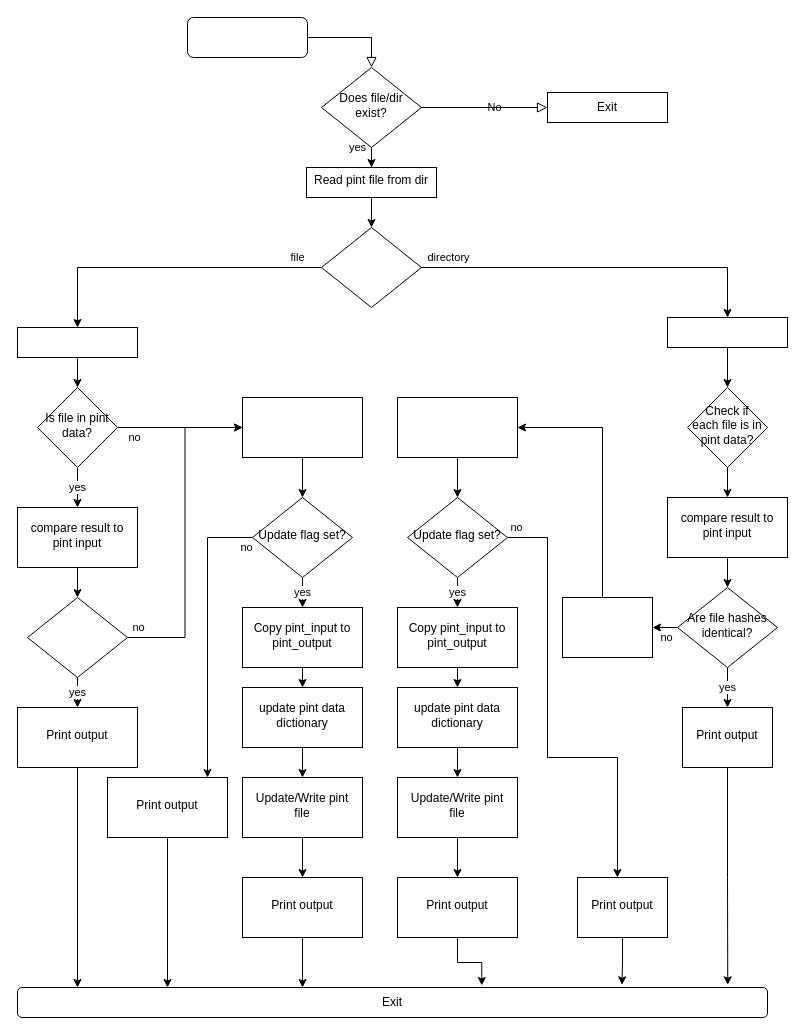
This 805x1035 diagram has some shape labels left out. Here are the shapes that lost their labels. From the top down, the centre of each, then its label:
At (247,37): "Given file or directory on cli".
At (371,267): "File or directory?".
At (77,342): "Generate filehash".
At (727,332): "If files exist, generate file hashes (mp)".
At (302,427): "Generate pixelhash".
At (457,427): "Generate pixelhashes".
At (77,637): "Is file hash identical?".
At (607,627): "add to processing list".
